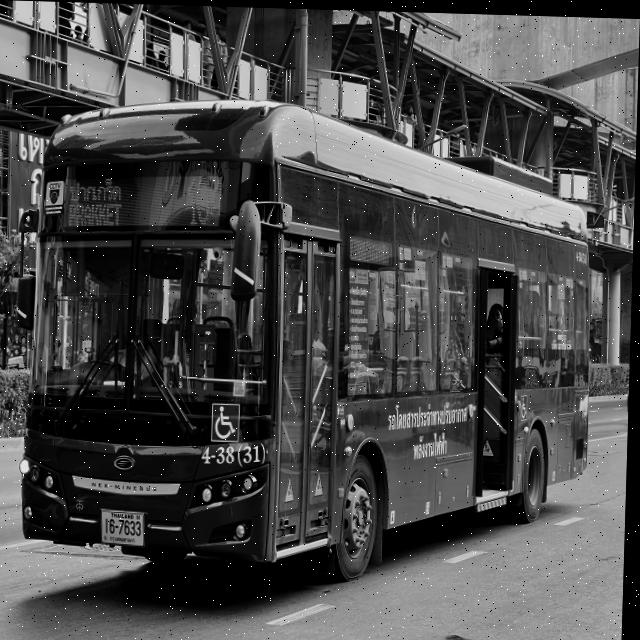Bus Line Number: (182, 162, 232, 235)
Bus Side Number: (203, 437, 272, 468)
Destination Sign: (65, 167, 128, 234)
TSB-Bus: (23, 83, 602, 589)
